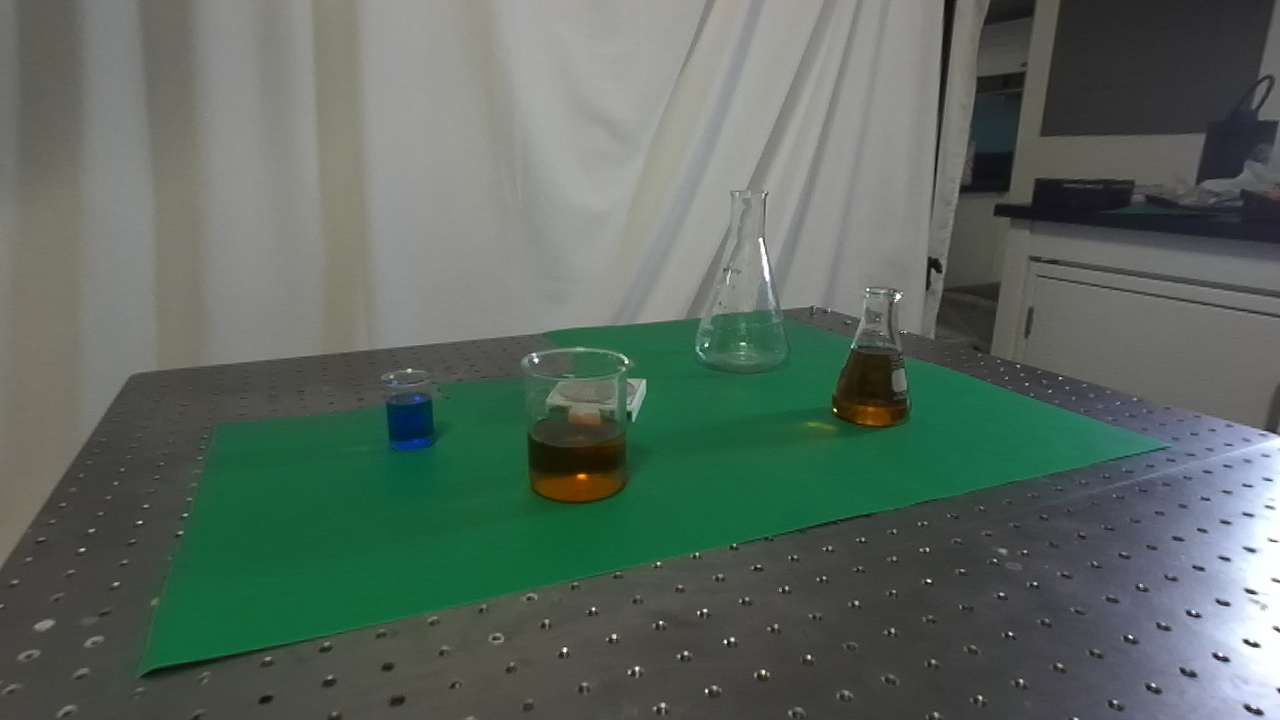glass: (688, 181, 795, 376), (515, 347, 634, 509), (827, 279, 915, 431), (377, 366, 436, 453)
plate: (542, 374, 650, 422)
